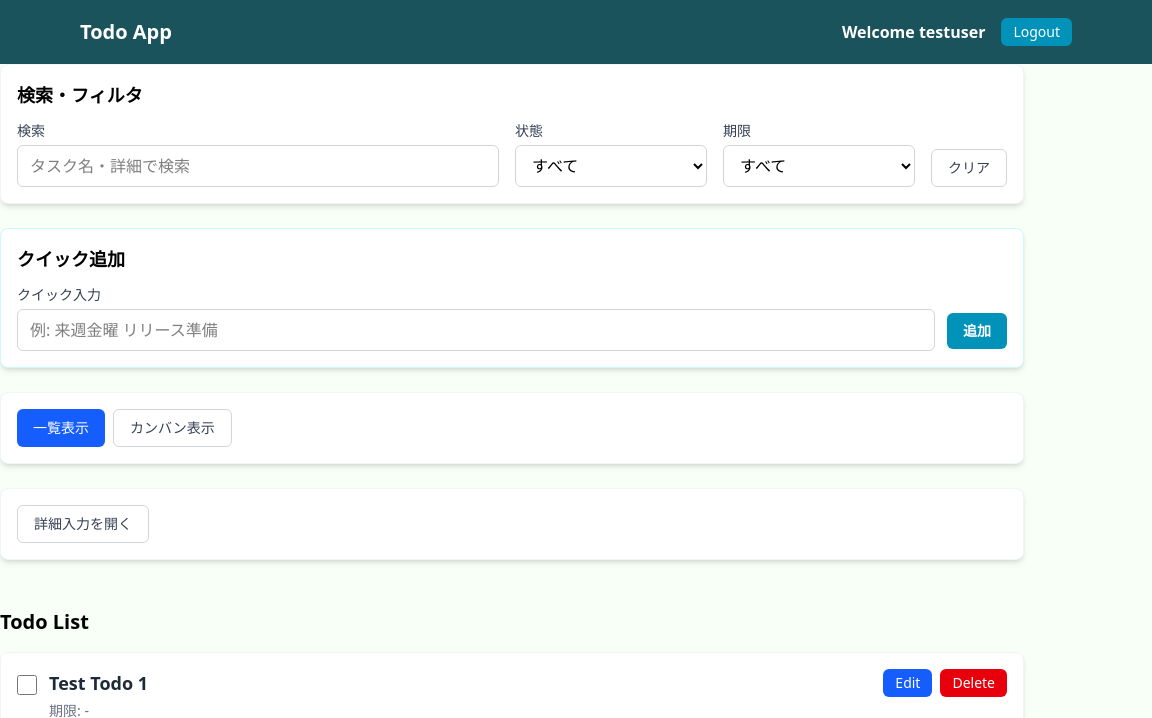
Test: DashboardPage › TODO更新 › タスク名が空の場合はバリデーションエラー
The image size is (1152, 718).
expect the heading "Test Todo 1" is shown: met, box [49, 669, 148, 697]
編集ボタンをクリック
Click the button "Edit".
click(908, 683)  # box [883, 669, 932, 697]
(page scrolled)
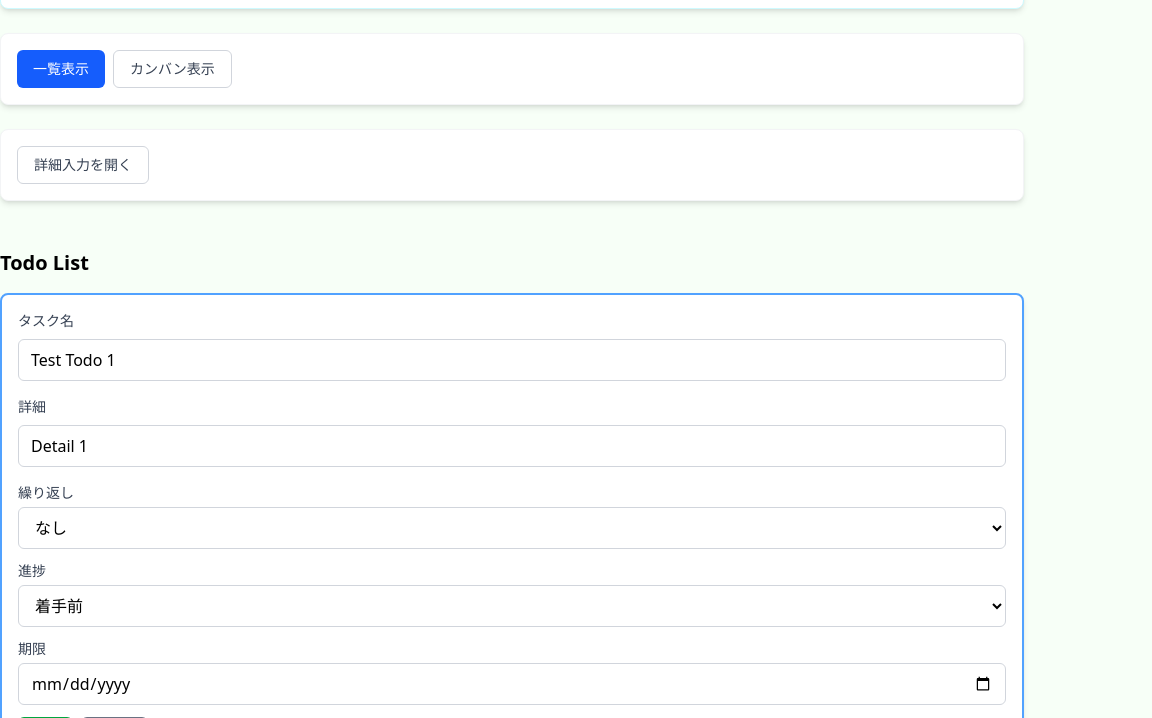
expect the field labelled "タスク名" is shown: met
タスク名を空にする
Clear the field labelled "タスク名" at (512, 360), box [18, 339, 1006, 381]
(page scrolled)
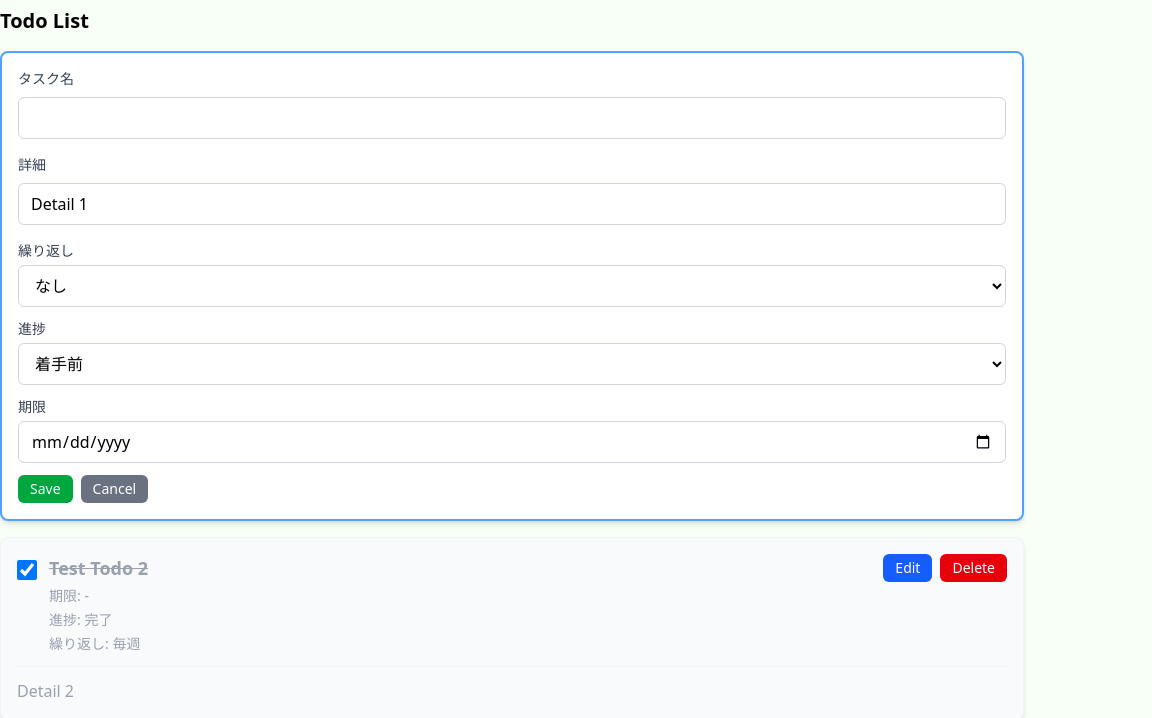
保存ボタンをクリック
Click the button "Save".
click(45, 489)  # box [18, 475, 73, 503]
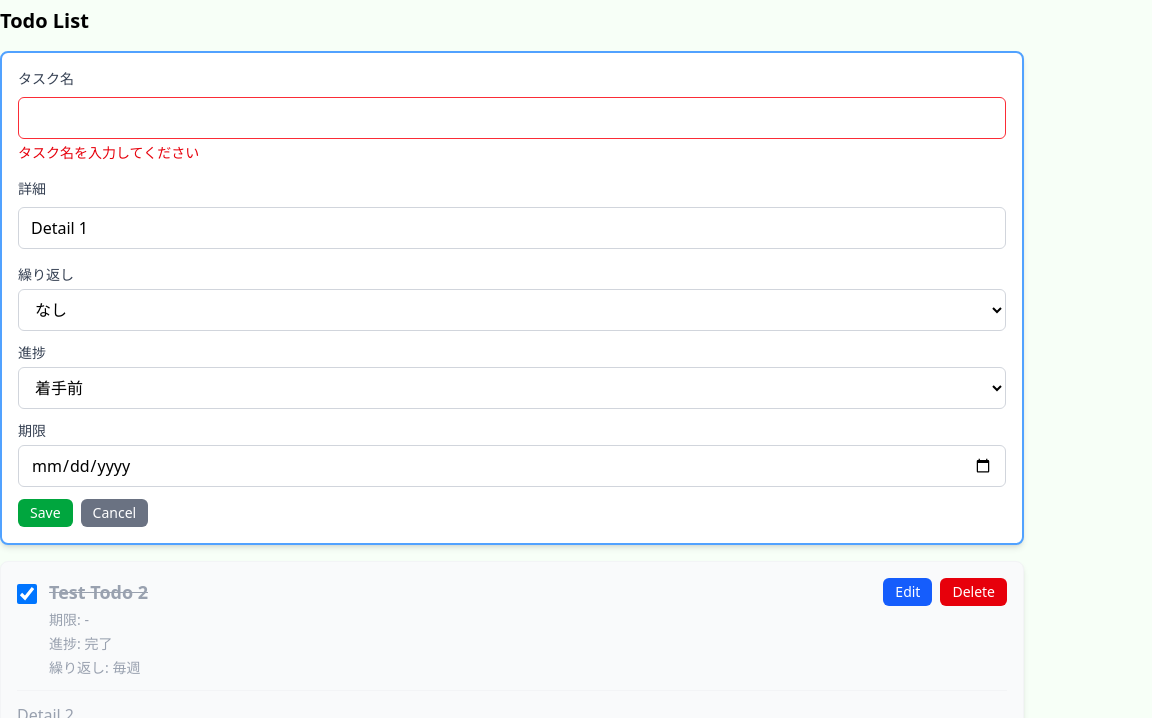
expect the text "タスク名を入力してください" is shown: met, box [18, 143, 199, 162]
